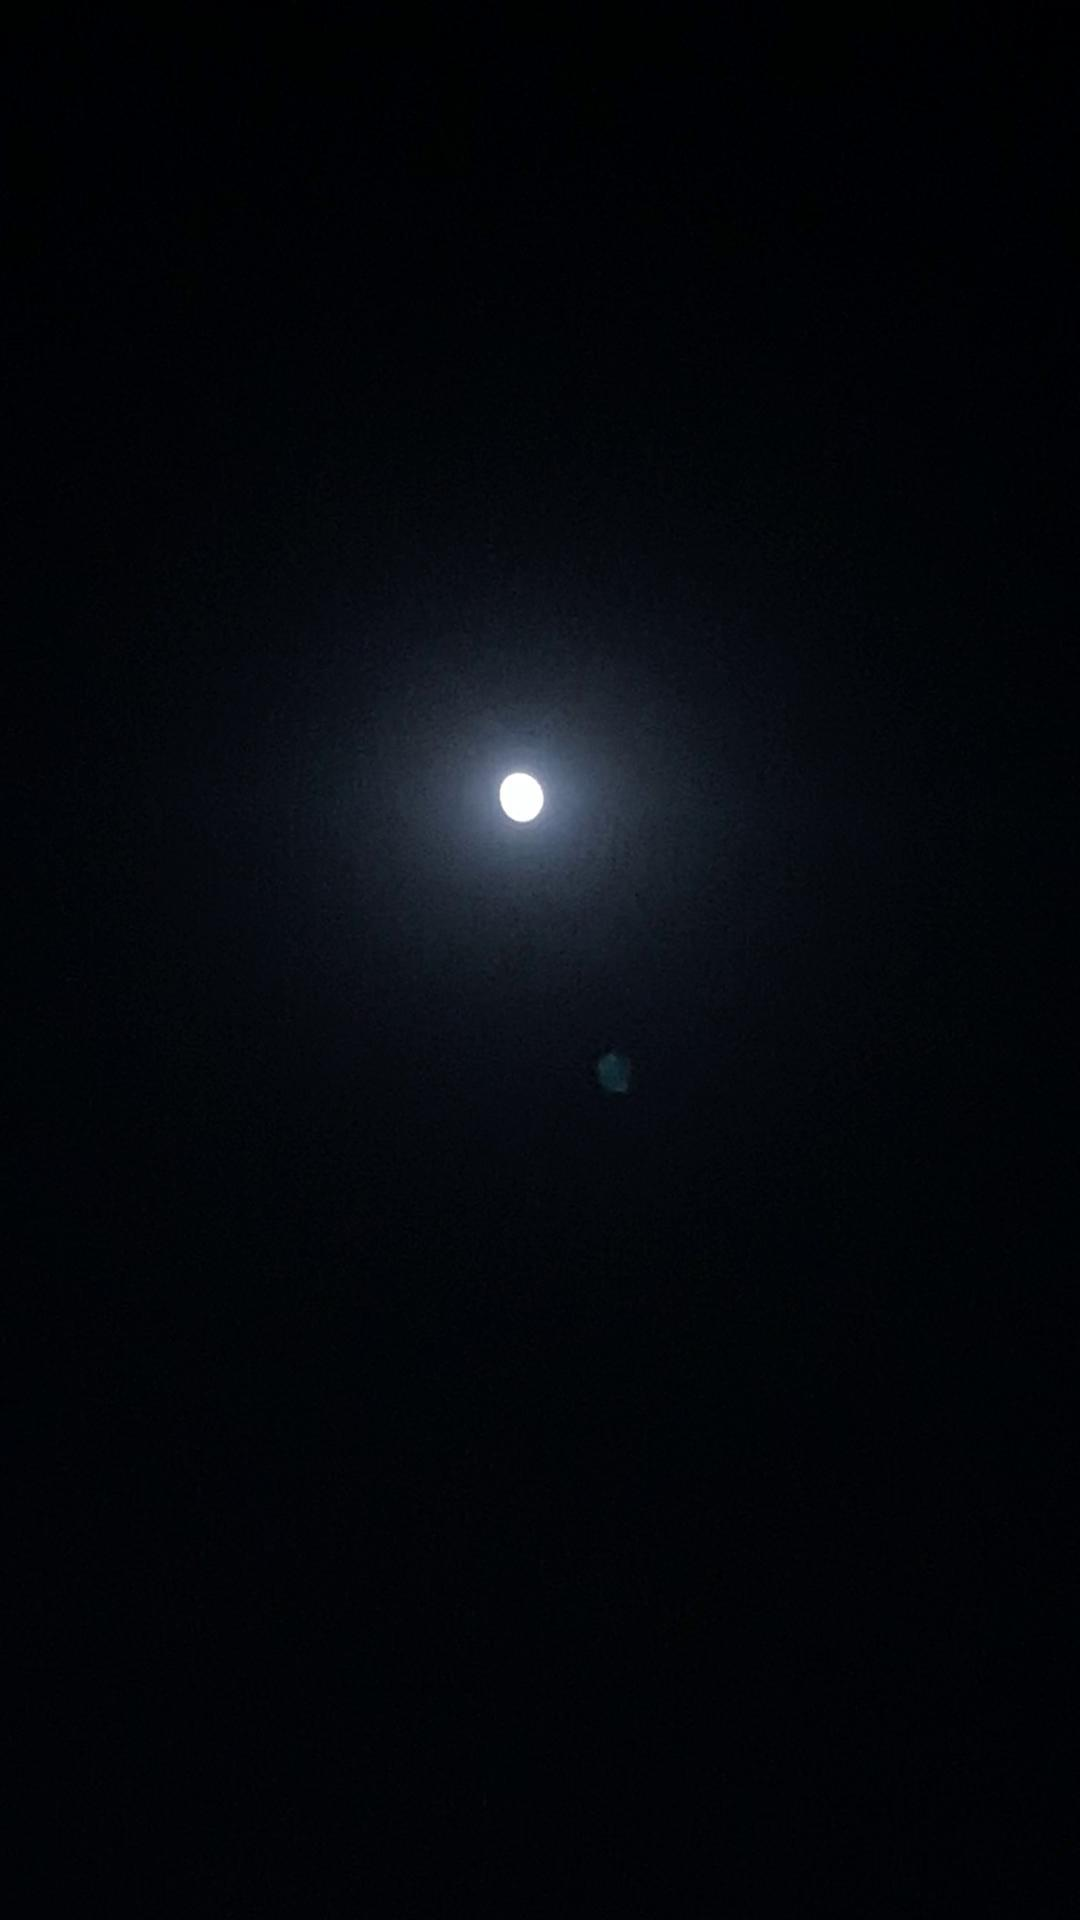moon: (487, 744, 574, 840)
